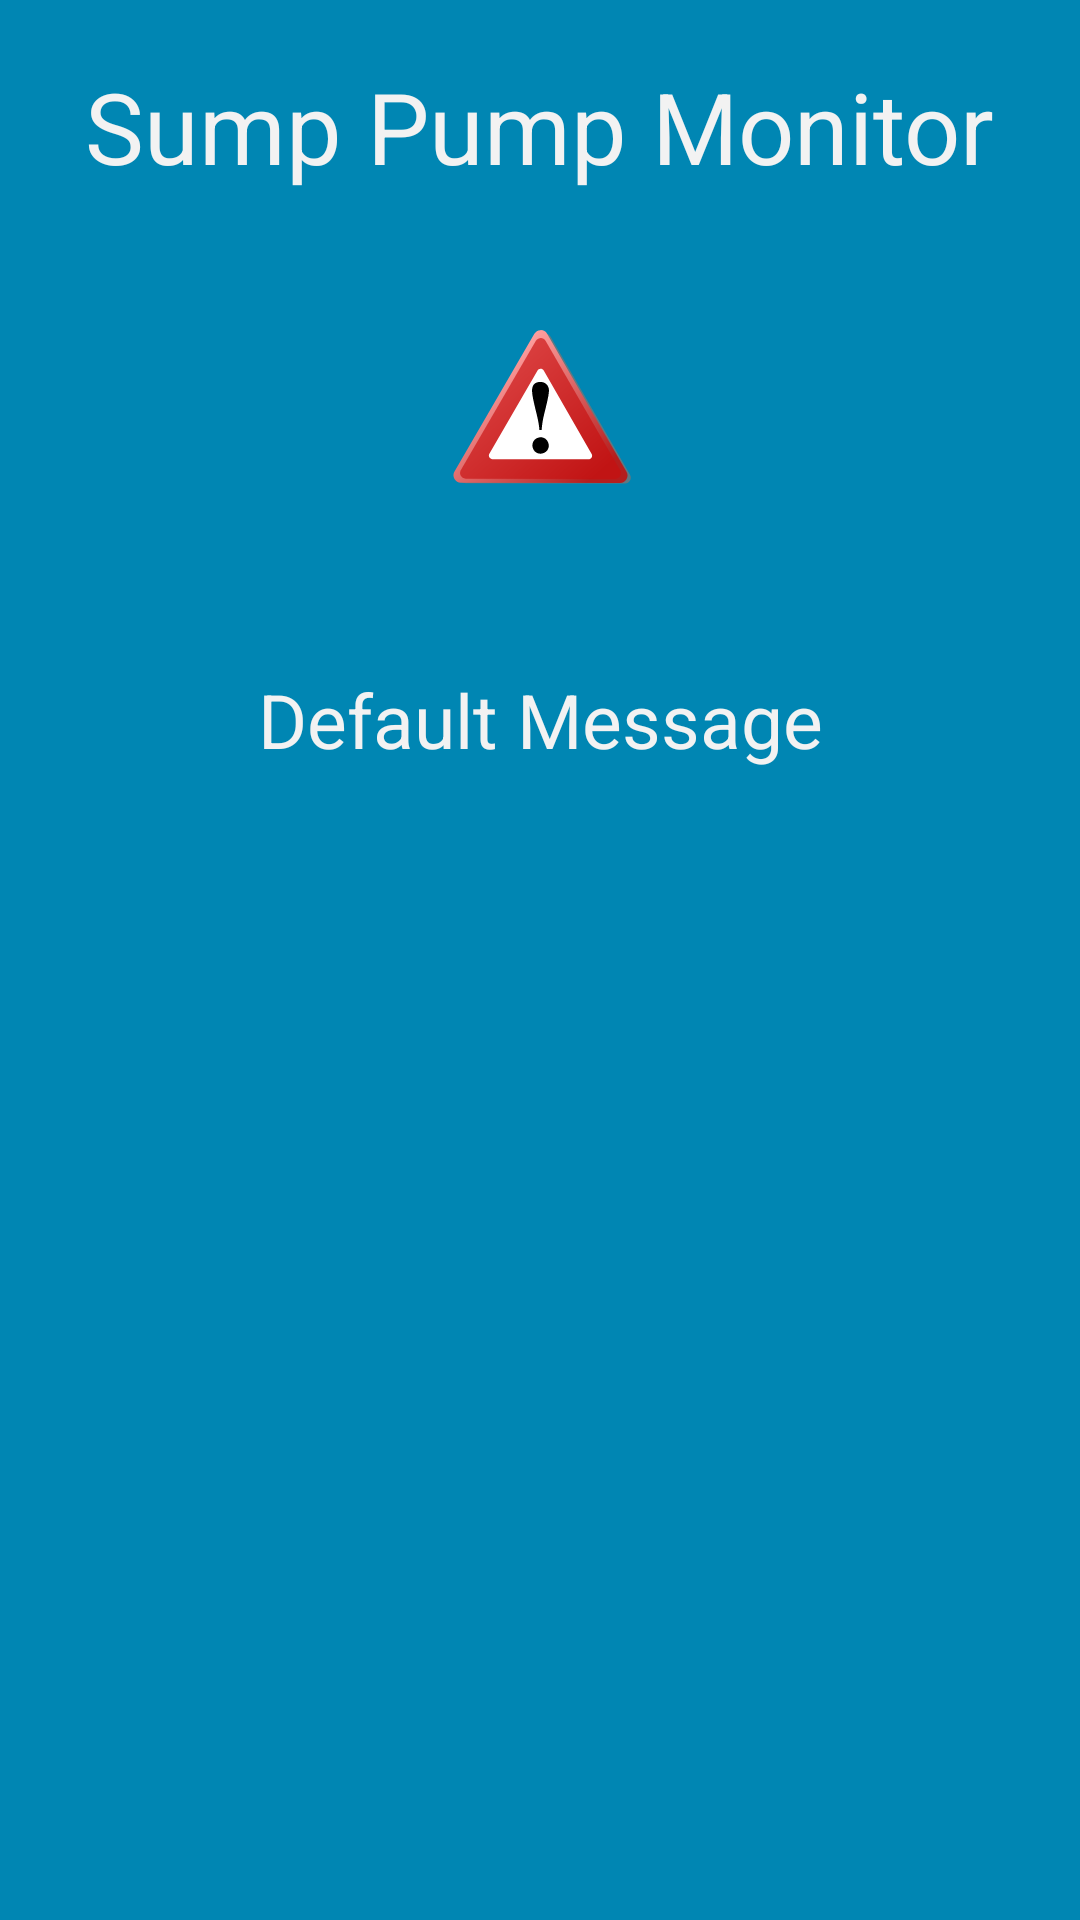

Icon click points for this 1080 x 1920 phone screenshot, format (x,y):
triangle warning: (542,407)
